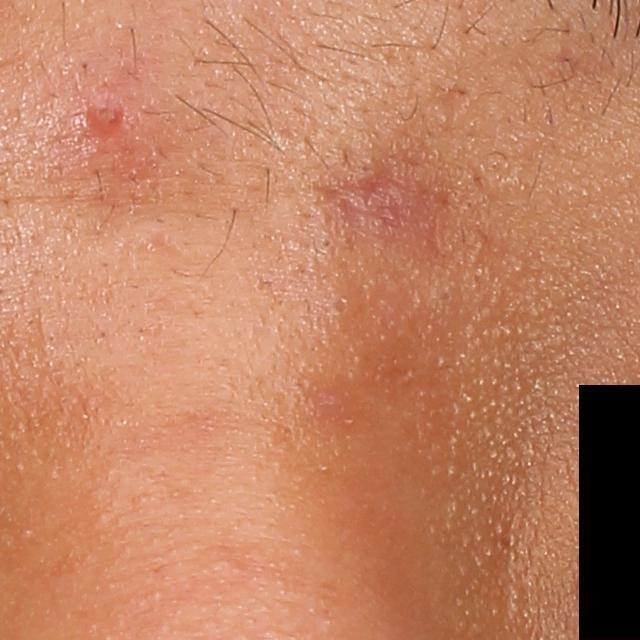atrophic_scar: (304, 164, 456, 270)
comedo: (331, 295, 355, 318), (317, 233, 336, 253)
